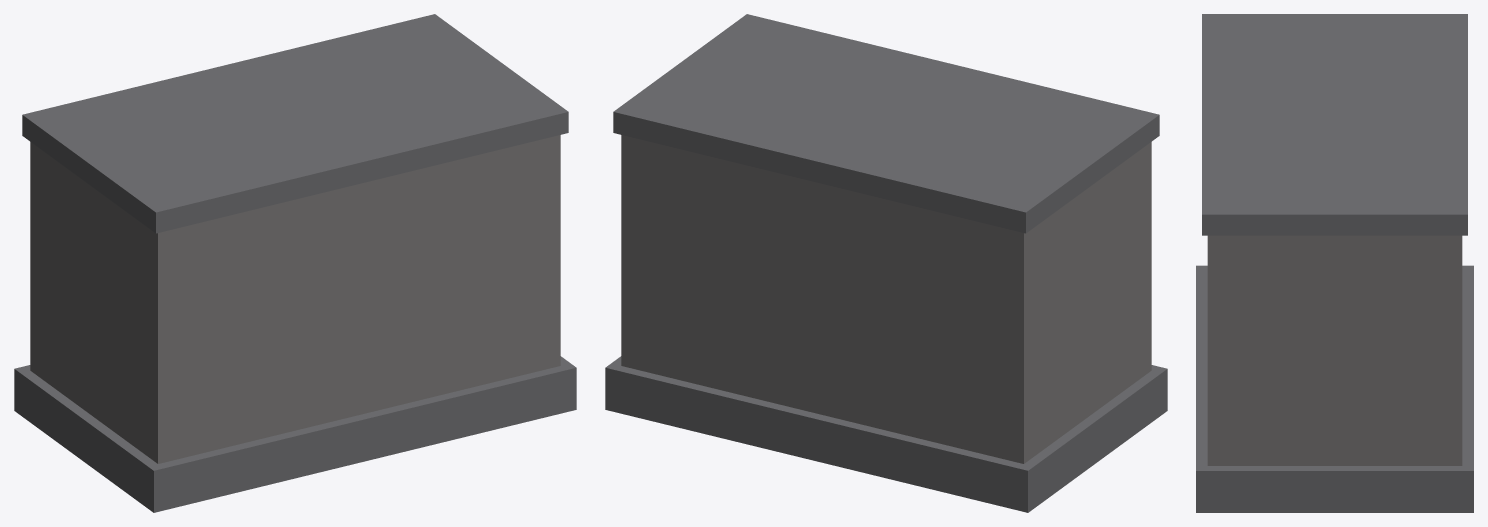
File: dumpster.glb
3 renders of one model, left to right at view 1: azimuth 30°, elevation 25°; view 2: azimuth 150°, elevation 25°; view 3: azimuth 270°, elevation 25°, orthographic.
Visible parts, largest first — view 1: dumpster; view 2: dumpster; view 3: dumpster.
Boxes of the visible parts, x1,y1,x2,y2 form: dumpster: (14,14,576,512); dumpster: (605,14,1167,512); dumpster: (1196,14,1473,512).
Size of the model in its own units: 2.1 by 1.41 by 1.2.
2 materials, 1 textured.
